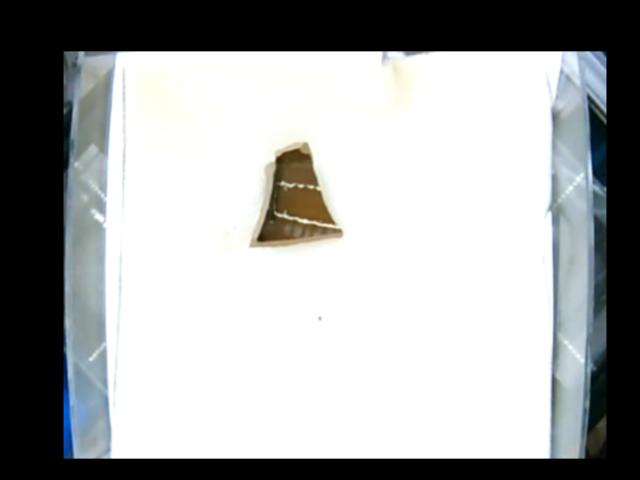China: (249, 142, 341, 250)
